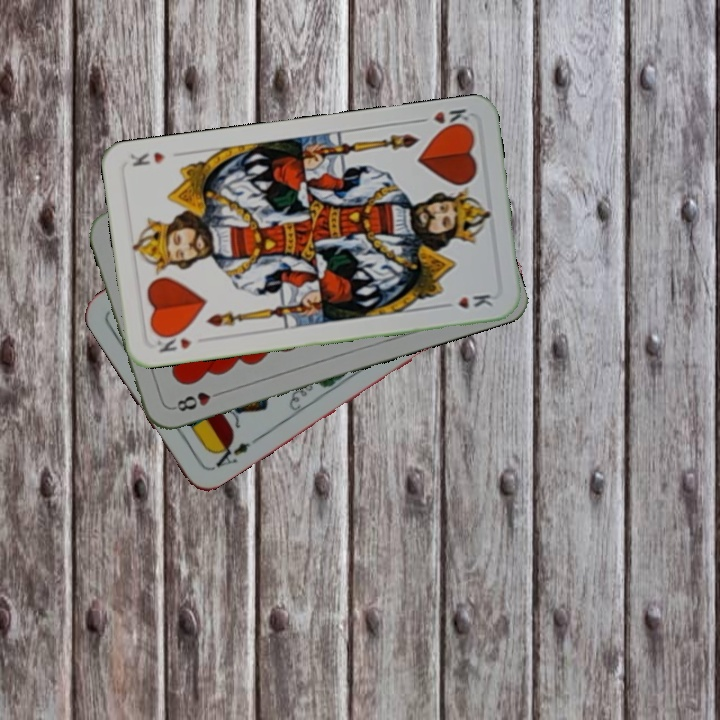EA: (208, 436, 253, 470)
H8: (169, 386, 226, 414)
HK: (413, 105, 472, 134), (153, 328, 194, 355)
